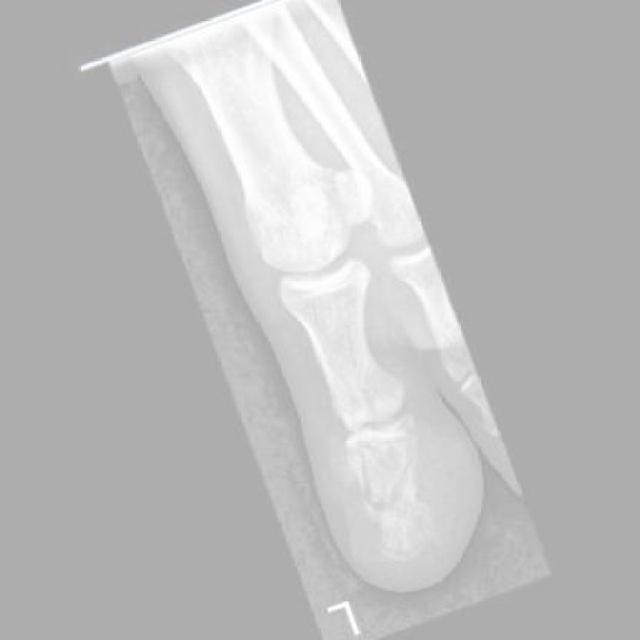Fracture: (334, 422, 460, 579)
